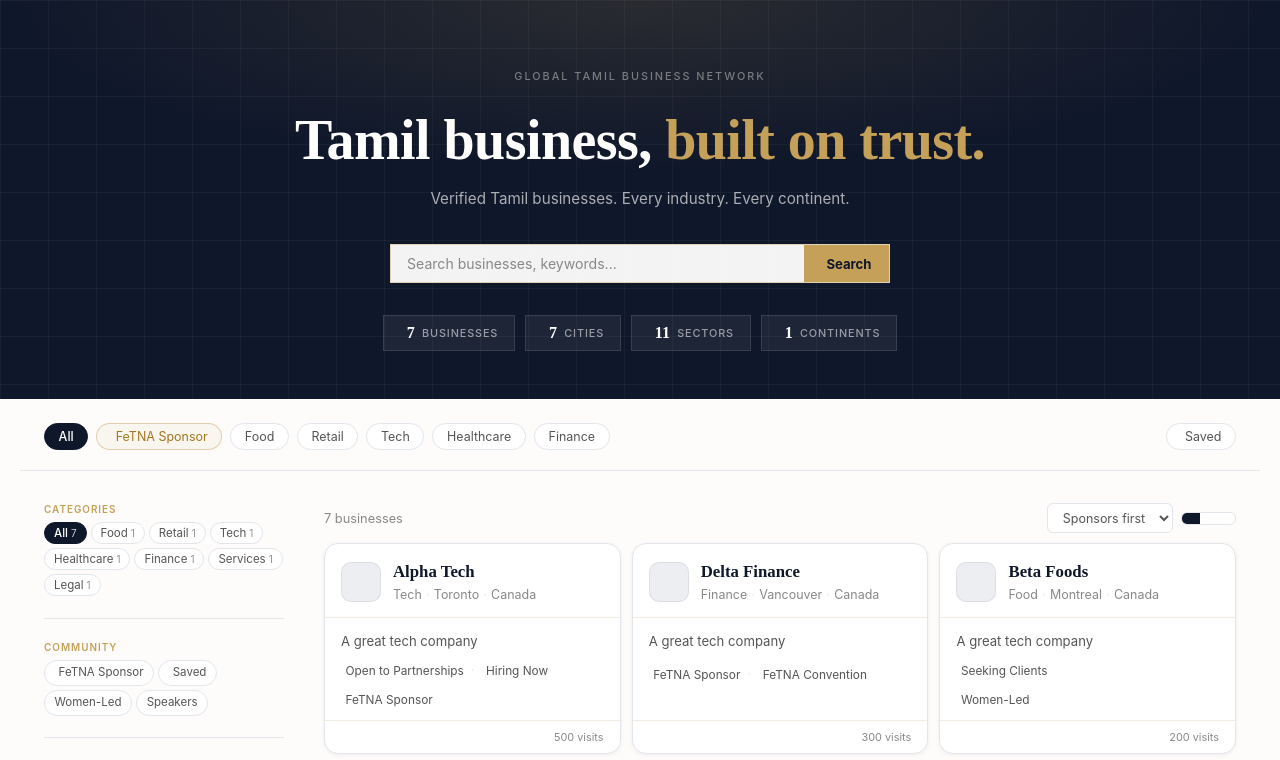
Test: DirectoryClient — category filter › filters businesses by selected category (Tech)
// Sidebar shows mapped names ("Tech") matching b.category
Click the text "Tech". click: (233,533)
box: [220,526,246,540]
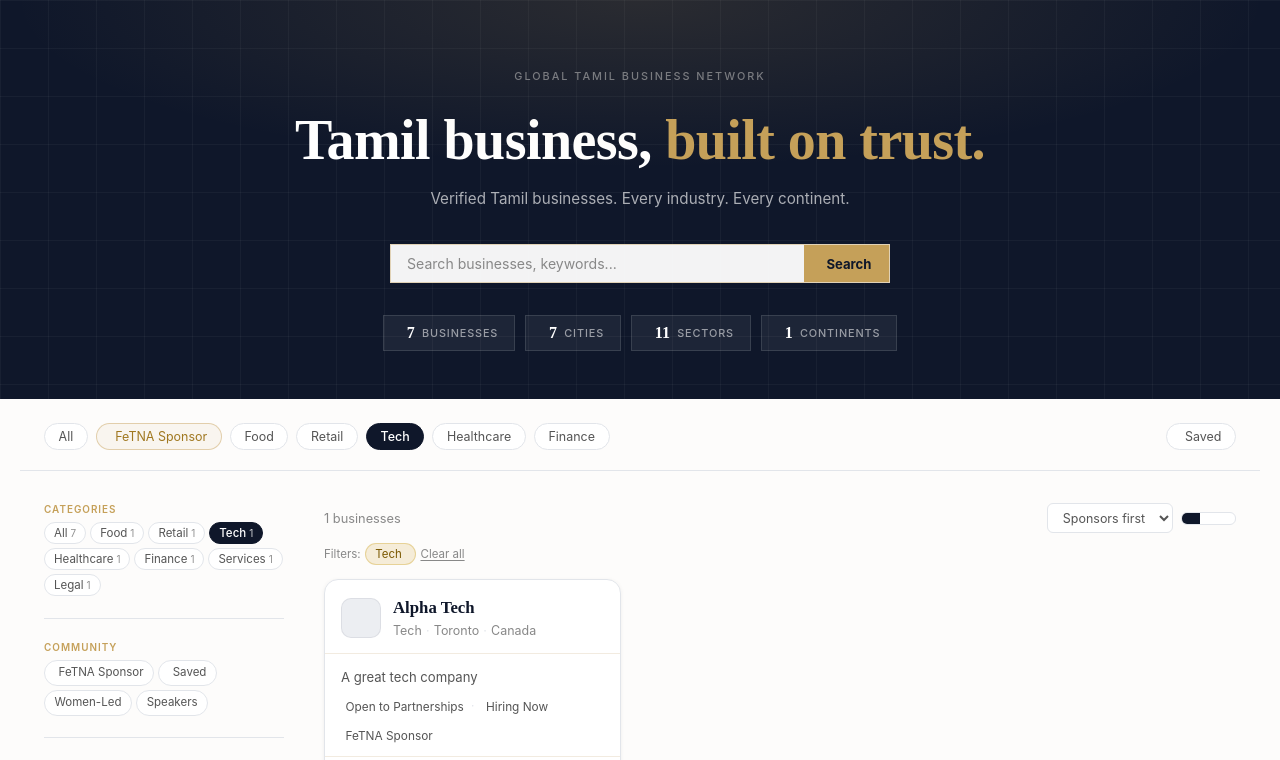
expect the text "Alpha Tech" is shown: met, box [393,598,475,617]
expect the text "1 businesses" is shown: met, box [324,511,401,526]
